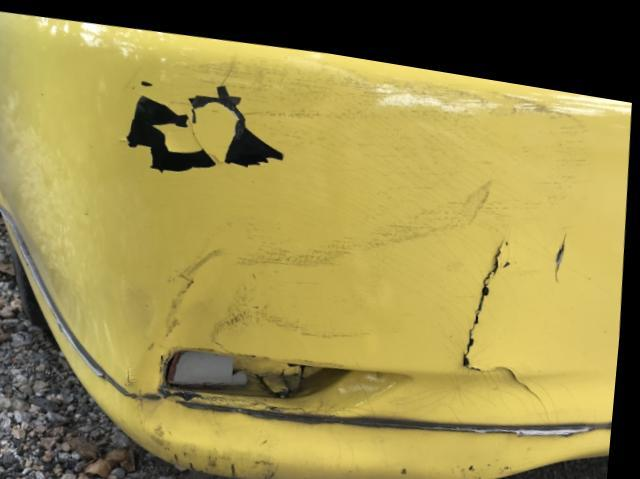crack: (466, 225, 556, 406), (558, 214, 569, 265)
scratch: (117, 48, 591, 340)
